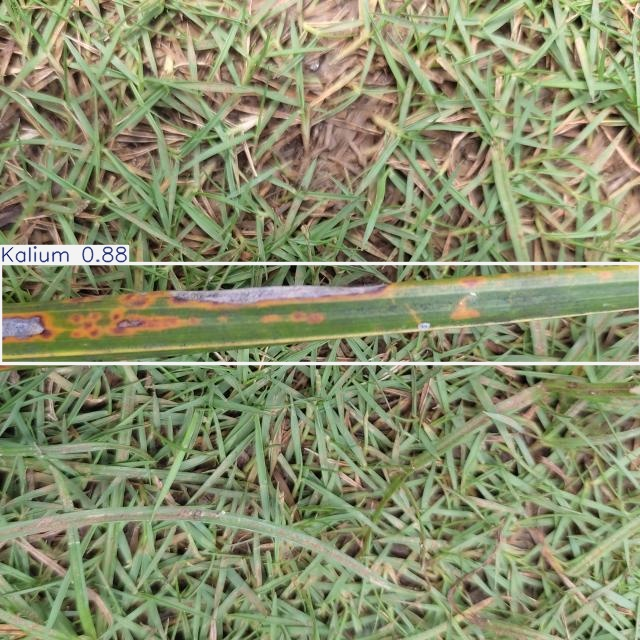Kalium: (0, 264, 640, 363)
